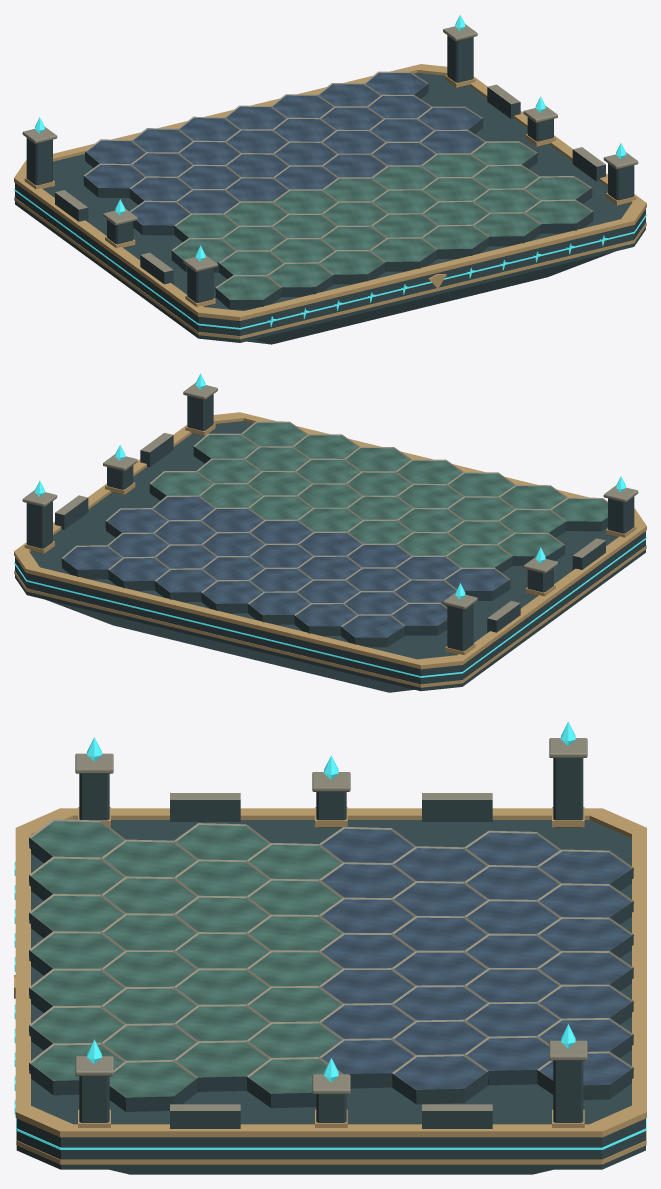
The model's file is floating-ruins-beauty-v1.glb.
3 renders of one model, top to bottom at view 1: azimuth 30°, elevation 25°; view 2: azimuth 150°, elevation 25°; view 3: azimuth 270°, elevation 25°, orthographic. The views are drawn at different scales.
Visible parts, largest first — view 1: SM_FloatingFoundation, SM_Beauty_AntiqueBronze, SM_FloatingUndercroft, SM_Beauty_AzureInlay, SM_Beauty_CarvedStone, SM_Hex_R00_C00, SM_Hex_R00_C05, SM_Hex_R00_C03, SM_Hex_R00_C06, SM_Hex_R00_C01, SM_Hex_R00_C02, SM_Hex_R00_C04 (+59 smaller); view 2: SM_FloatingFoundation, SM_Beauty_AntiqueBronze, SM_FloatingUndercroft, SM_Beauty_AzureInlay, SM_Beauty_CarvedStone, SM_Hex_R07_C00, SM_Hex_R00_C00, SM_Hex_R07_C06, SM_Hex_R07_C04, SM_Hex_R07_C02, SM_Hex_R04_C00, SM_Hex_R07_C05 (+59 smaller); view 3: SM_FloatingFoundation, SM_Beauty_AntiqueBronze, SM_Beauty_CarvedStone, SM_Hex_R05_C06, SM_Hex_R01_C06, SM_Beauty_AzureInlay, SM_Hex_R02_C06, SM_Hex_R03_C06, SM_Hex_R04_C06, SM_Hex_R06_C06, SM_Hex_R00_C03, SM_Hex_R00_C04 (+59 smaller).
Part boxes in pixels (x1,y1,x2,y2): SM_FloatingFoundation: (15, 72, 645, 342); SM_Beauty_AntiqueBronze: (14, 64, 646, 339); SM_FloatingUndercroft: (246, 251, 614, 344); SM_Beauty_AzureInlay: (14, 15, 646, 329); SM_Beauty_CarvedStone: (22, 24, 638, 271); SM_Hex_R00_C00: (215, 275, 281, 309); SM_Hex_R00_C05: (473, 212, 541, 246); SM_Hex_R00_C03: (370, 237, 437, 271); SM_Hex_R00_C06: (524, 199, 593, 233); SM_Hex_R00_C01: (267, 262, 333, 296); SM_Hex_R00_C02: (318, 250, 385, 284); SM_Hex_R00_C04: (421, 224, 489, 258); SM_FloatingFoundation: (15, 421, 645, 691); SM_Beauty_AntiqueBronze: (14, 412, 646, 687); SM_FloatingUndercroft: (47, 600, 414, 692); SM_Beauty_AzureInlay: (14, 373, 646, 677); SM_Beauty_CarvedStone: (22, 383, 638, 609); SM_Hex_R07_C00: (340, 614, 405, 647); SM_Hex_R00_C00: (550, 497, 607, 531); SM_Hex_R07_C06: (61, 545, 122, 579); SM_Hex_R07_C04: (154, 568, 216, 602); SM_Hex_R07_C02: (247, 591, 310, 624); SM_Hex_R04_C00: (444, 567, 510, 600); SM_Hex_R07_C05: (108, 556, 169, 590); SM_FloatingFoundation: (16, 820, 645, 1169); SM_Beauty_AntiqueBronze: (14, 807, 646, 1164); SM_Beauty_CarvedStone: (75, 738, 587, 1094); SM_Hex_R05_C06: (392, 1054, 488, 1104); SM_Hex_R01_C06: (109, 1060, 198, 1111); SM_Beauty_AzureInlay: (14, 721, 646, 1149); SM_Hex_R02_C06: (174, 1040, 270, 1091); SM_Hex_R03_C06: (246, 1057, 342, 1108); SM_Hex_R04_C06: (319, 1038, 415, 1088); SM_Hex_R06_C06: (465, 1036, 549, 1085); SM_Hex_R00_C03: (29, 931, 125, 975); SM_Hex_R00_C04: (29, 968, 125, 1012).
Bounding box in the file's own units: 7.58 × 2.07 × 6.28.
6 materials, 2 textured.
